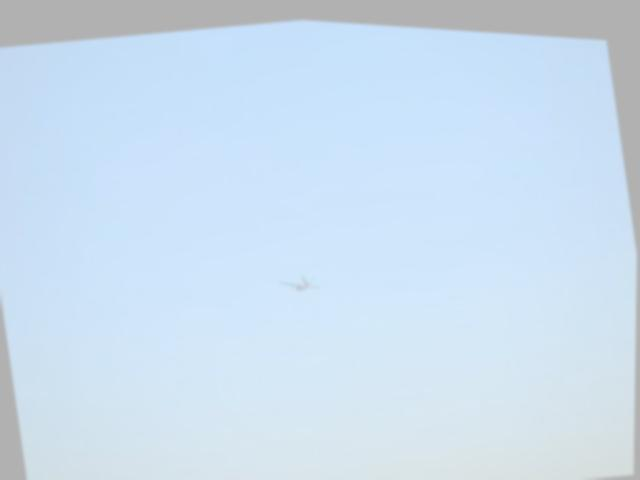uav: (271, 260, 331, 303)
